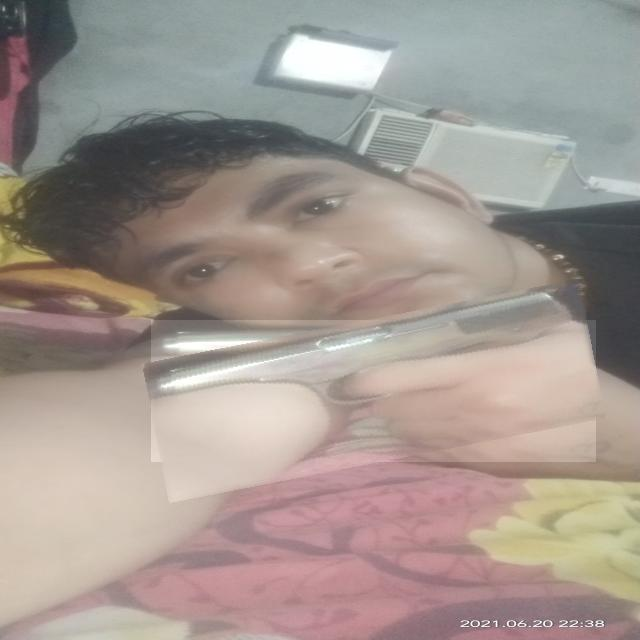handgun: (147, 300, 600, 482)
